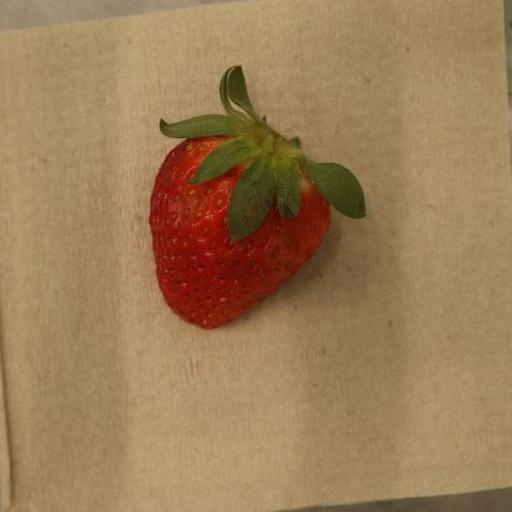Strawberry: (148, 65, 367, 331)
